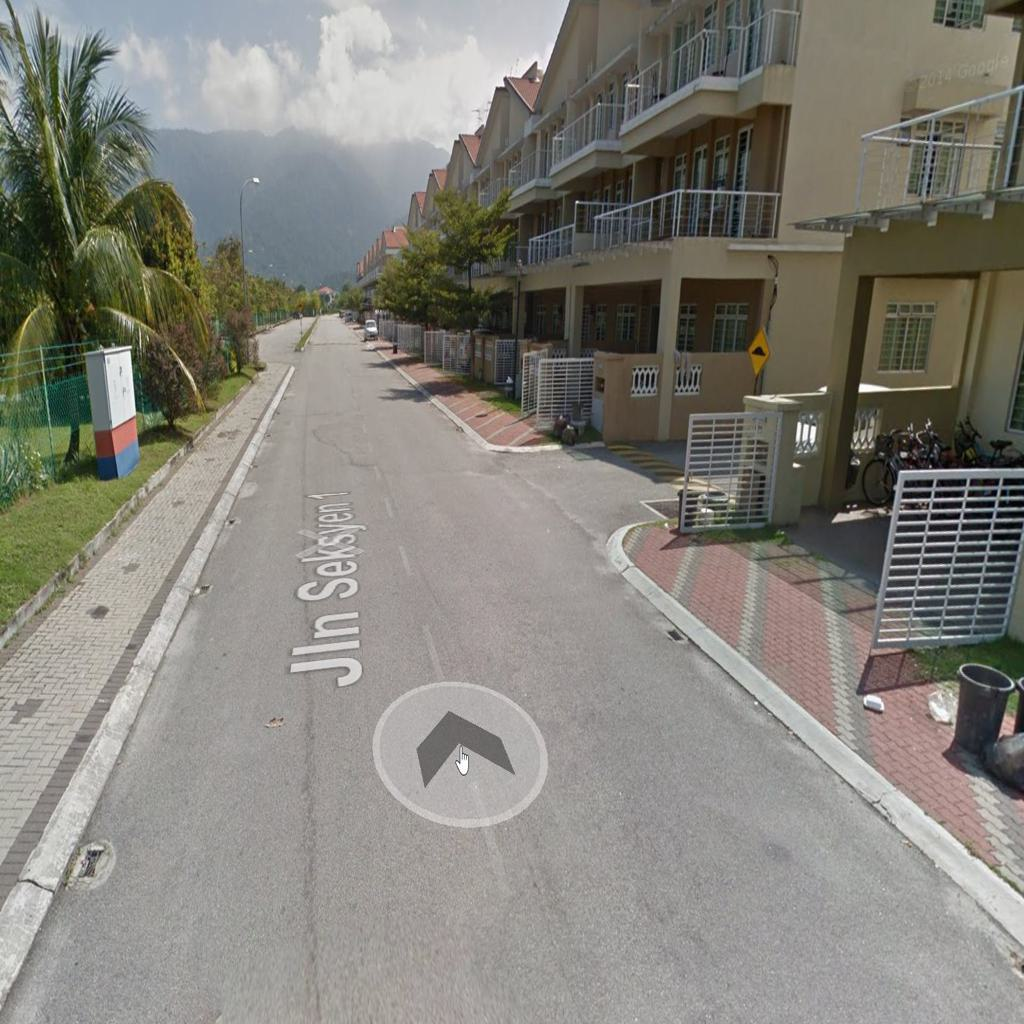Junction: (461, 404, 738, 574)
